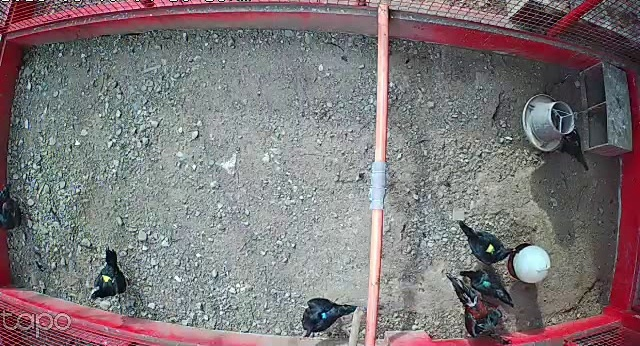Chicken: (454, 215, 521, 266), (298, 288, 360, 335), (87, 245, 132, 306), (458, 265, 518, 309), (552, 125, 591, 173)
Rooster: (446, 272, 513, 346)
Saddle_Color_Blue: (322, 311, 326, 319)
Saddle_Color_Yellow: (100, 273, 115, 283)
Saddle_Color_YellowGreen: (485, 242, 498, 256)
